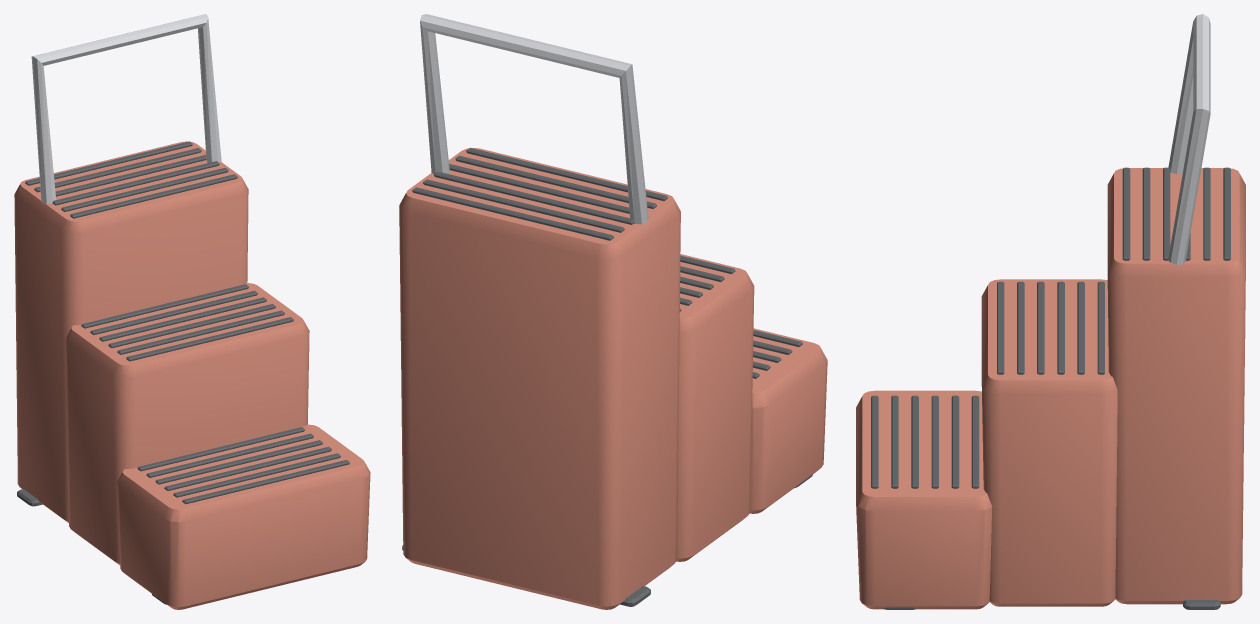
3 views of the same model, side by side, from view 1: azimuth 30°, elevation 25°; view 2: azimuth 150°, elevation 25°; view 3: azimuth 270°, elevation 25° (orthographic). The views are drawn at different scales.
Parts seen in each view (by area): view 1: stock-ladder-step; view 2: stock-ladder-step; view 3: stock-ladder-step.
Boxes of the visible parts, x1,y1,x2,y2 form: stock-ladder-step: (14, 14, 370, 609); stock-ladder-step: (399, 14, 827, 609); stock-ladder-step: (856, 14, 1245, 609).
Bounding box in the file's own units: 0.42 × 0.871 × 0.62.
